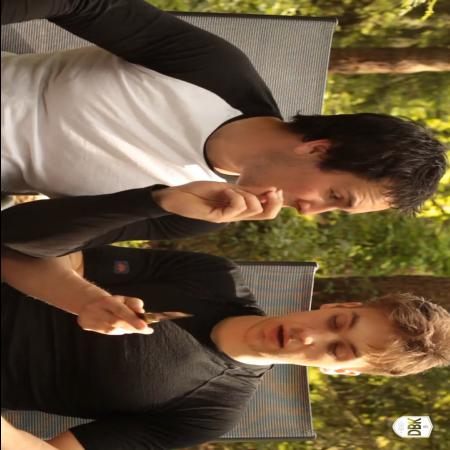long weapon: (99, 298, 208, 345)
